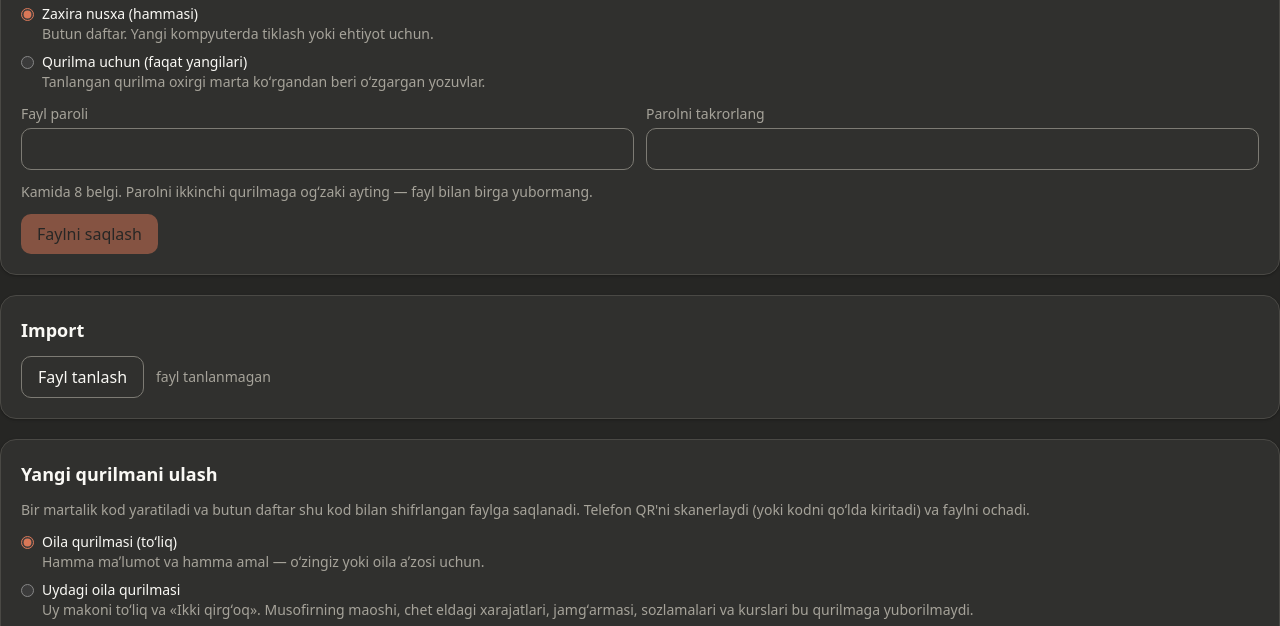
Test case: SyncScreen › K8: sotuvchi faylidagi rad etilgan yozuvlar sababi bilan
The image size is (1280, 626).
(page scrolled)
Click the button "Fayl tanlash" at [82, 377], box [21,356,144,398]
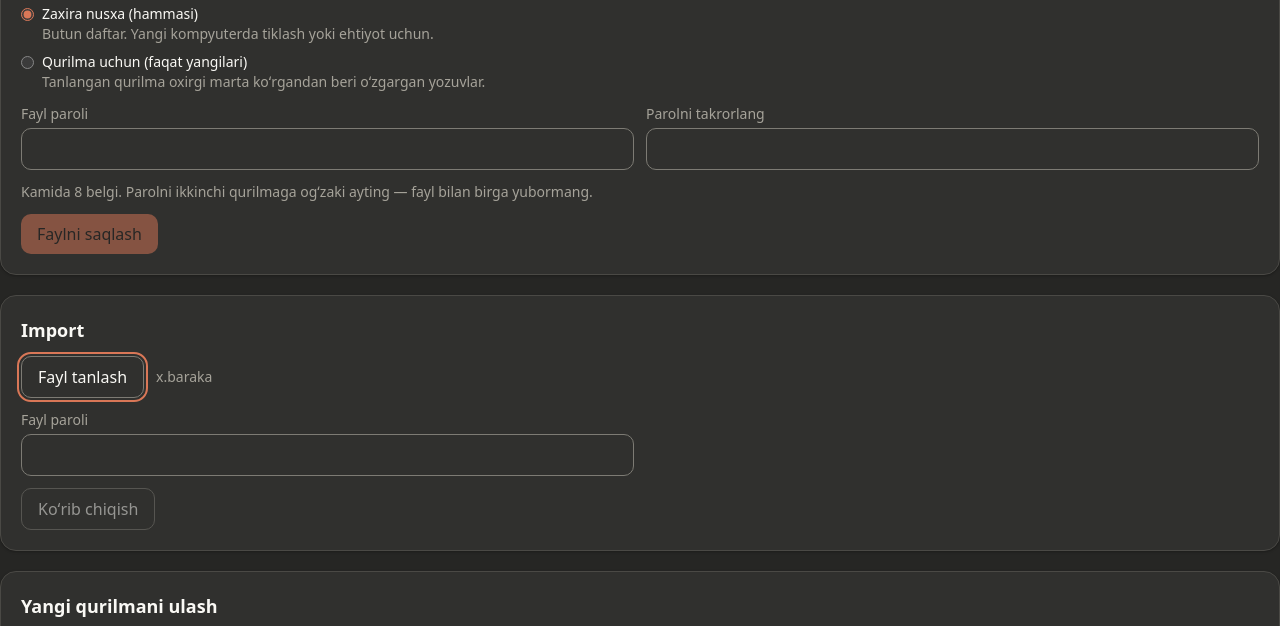
Type "x" into the password field labelled "Fayl paroli" below "x.baraka" at [328, 455], box [21,434,634,476]
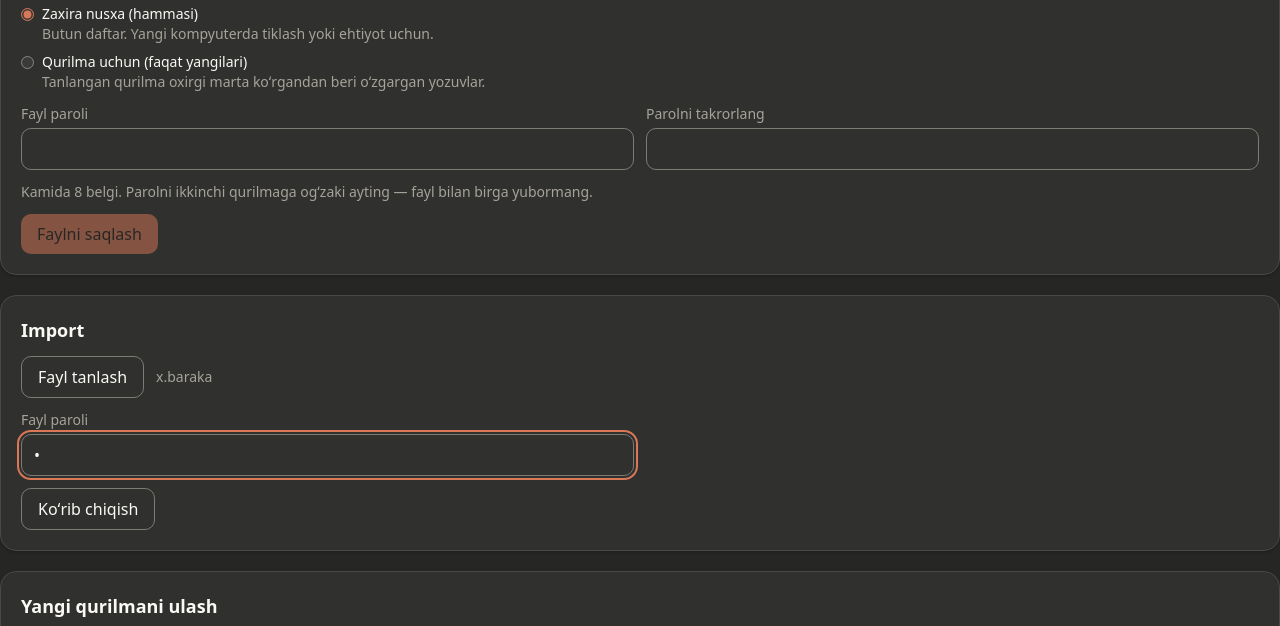
Click the button "Koʻrib chiqish" at [88, 509], box [21,488,155,530]
(page scrolled)
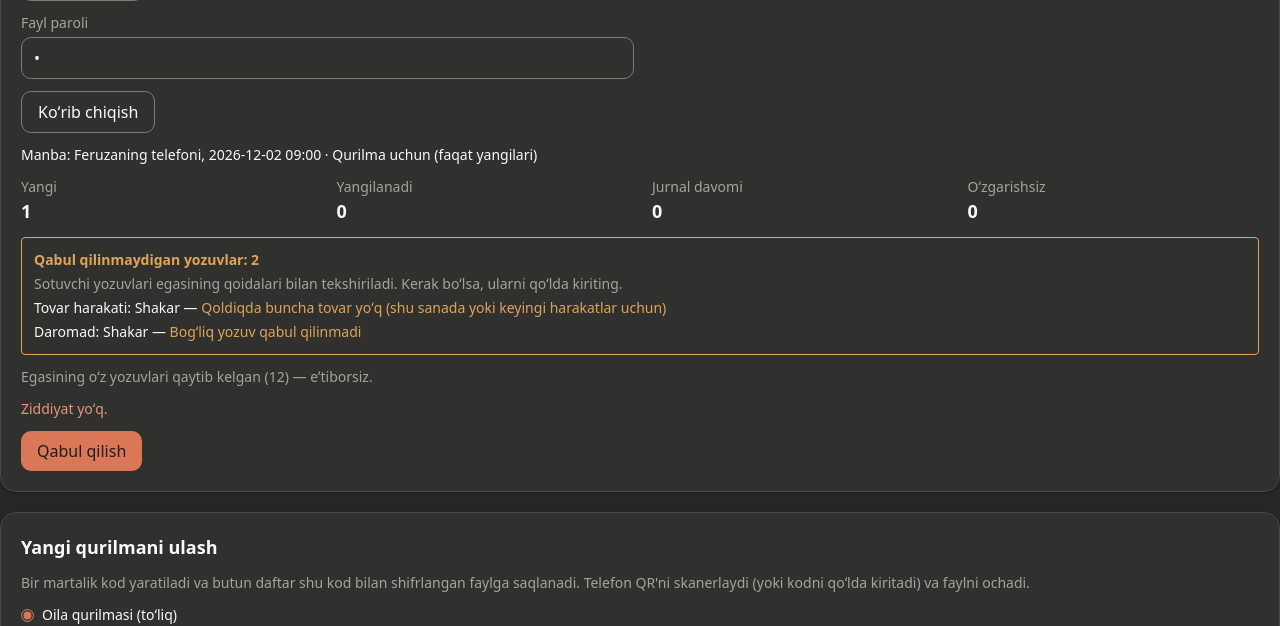
Check: the element with test id "sync-rejected" shows "Qabul qilinmaydigan yozuvlar: 2", box [34,250,259,269]
Check: the element with test id "sync-rejected" shows "Tovar harakati: Shakar", box [21,237,1259,355]
Check: the element with test id "sync-rejected" shows "Bogʻliq yozuv qabul qilinmadi", box [170,322,361,341]
